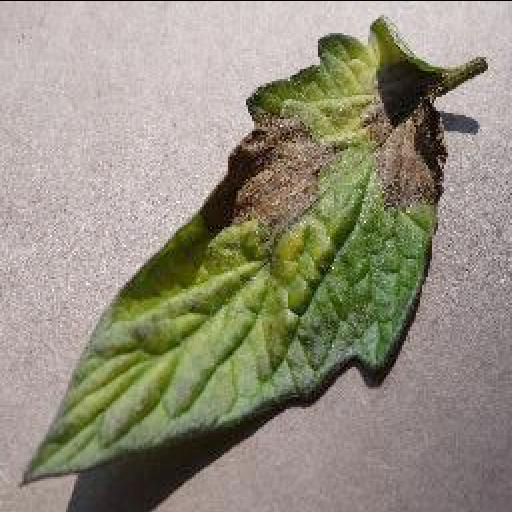disease_tomato: (15, 15, 449, 489)
